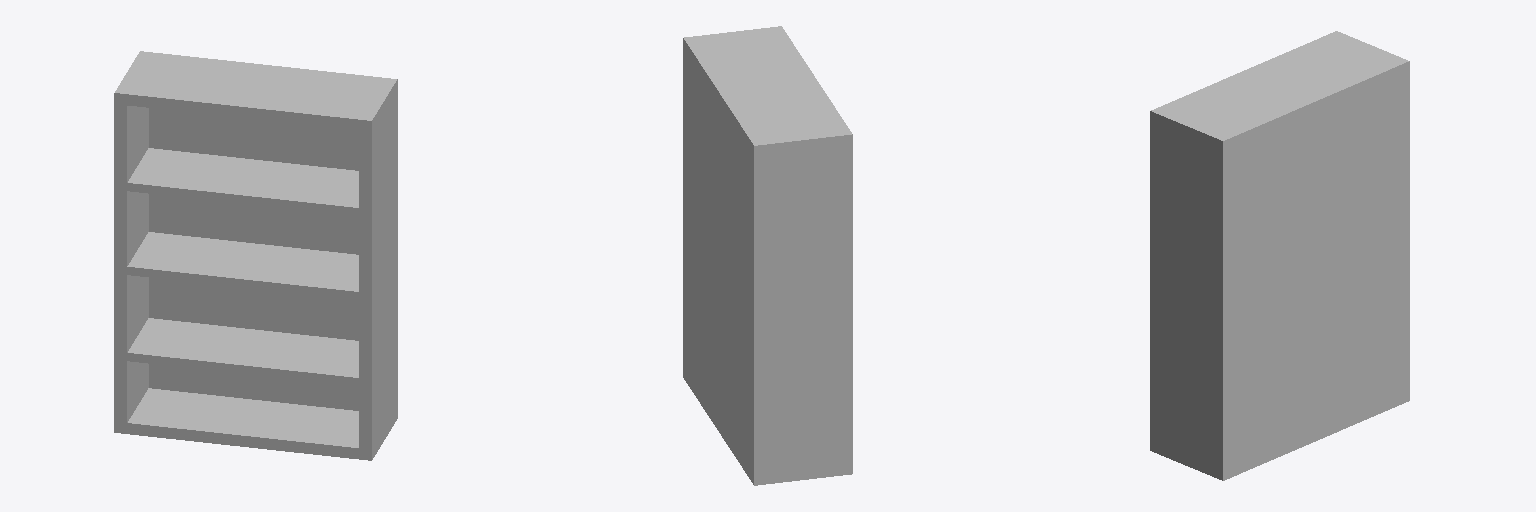
Rendered from shlf.obj.
3 renders of one model, left to right at view 1: azimuth 30°, elevation 25°; view 2: azimuth 150°, elevation 25°; view 3: azimuth 270°, elevation 25°, orthographic.
Visible parts, largest first — view 1: Cube.002; view 2: Cube.002; view 3: Cube.002.
Part boxes in pixels (x1,y1,x2,y2): Cube.002: (114, 51, 397, 460); Cube.002: (683, 26, 852, 485); Cube.002: (1150, 31, 1409, 480).
Size of the model in its own units: 1.53 by 2.2 by 1.52.